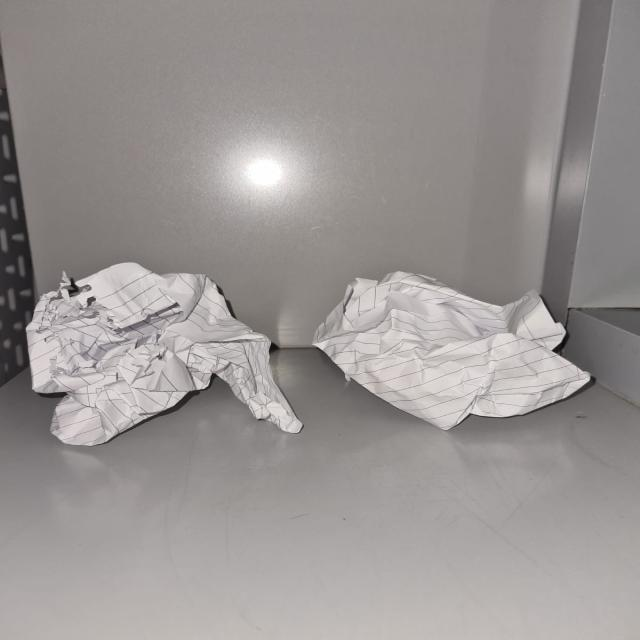Paper: (24, 260, 303, 446), (316, 275, 593, 426)
